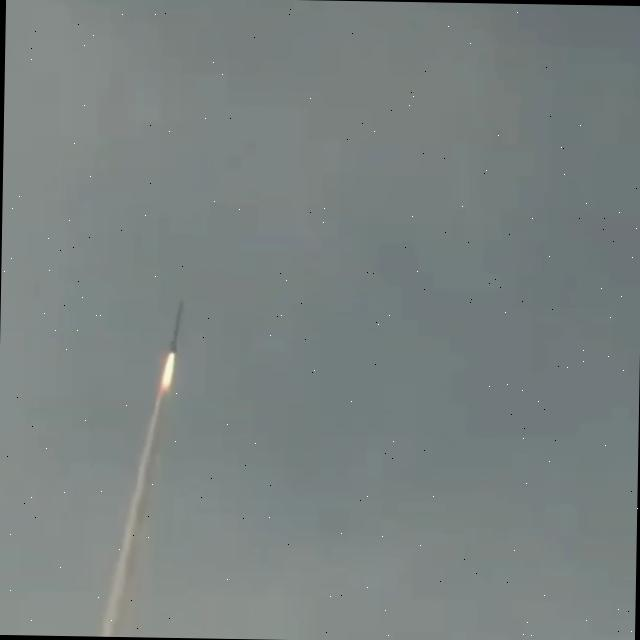rocket: (168, 301, 183, 355)
smoke_trail_with_rocket: (97, 303, 181, 636)
